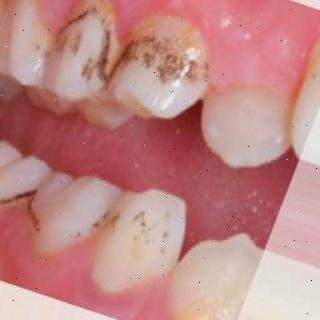calculus: (122, 1, 207, 62), (56, 0, 123, 58), (14, 6, 57, 63)
maligned: (199, 41, 311, 171)
stains: (99, 194, 176, 270), (22, 180, 109, 247), (64, 19, 114, 80), (120, 45, 199, 76), (0, 152, 40, 210)
